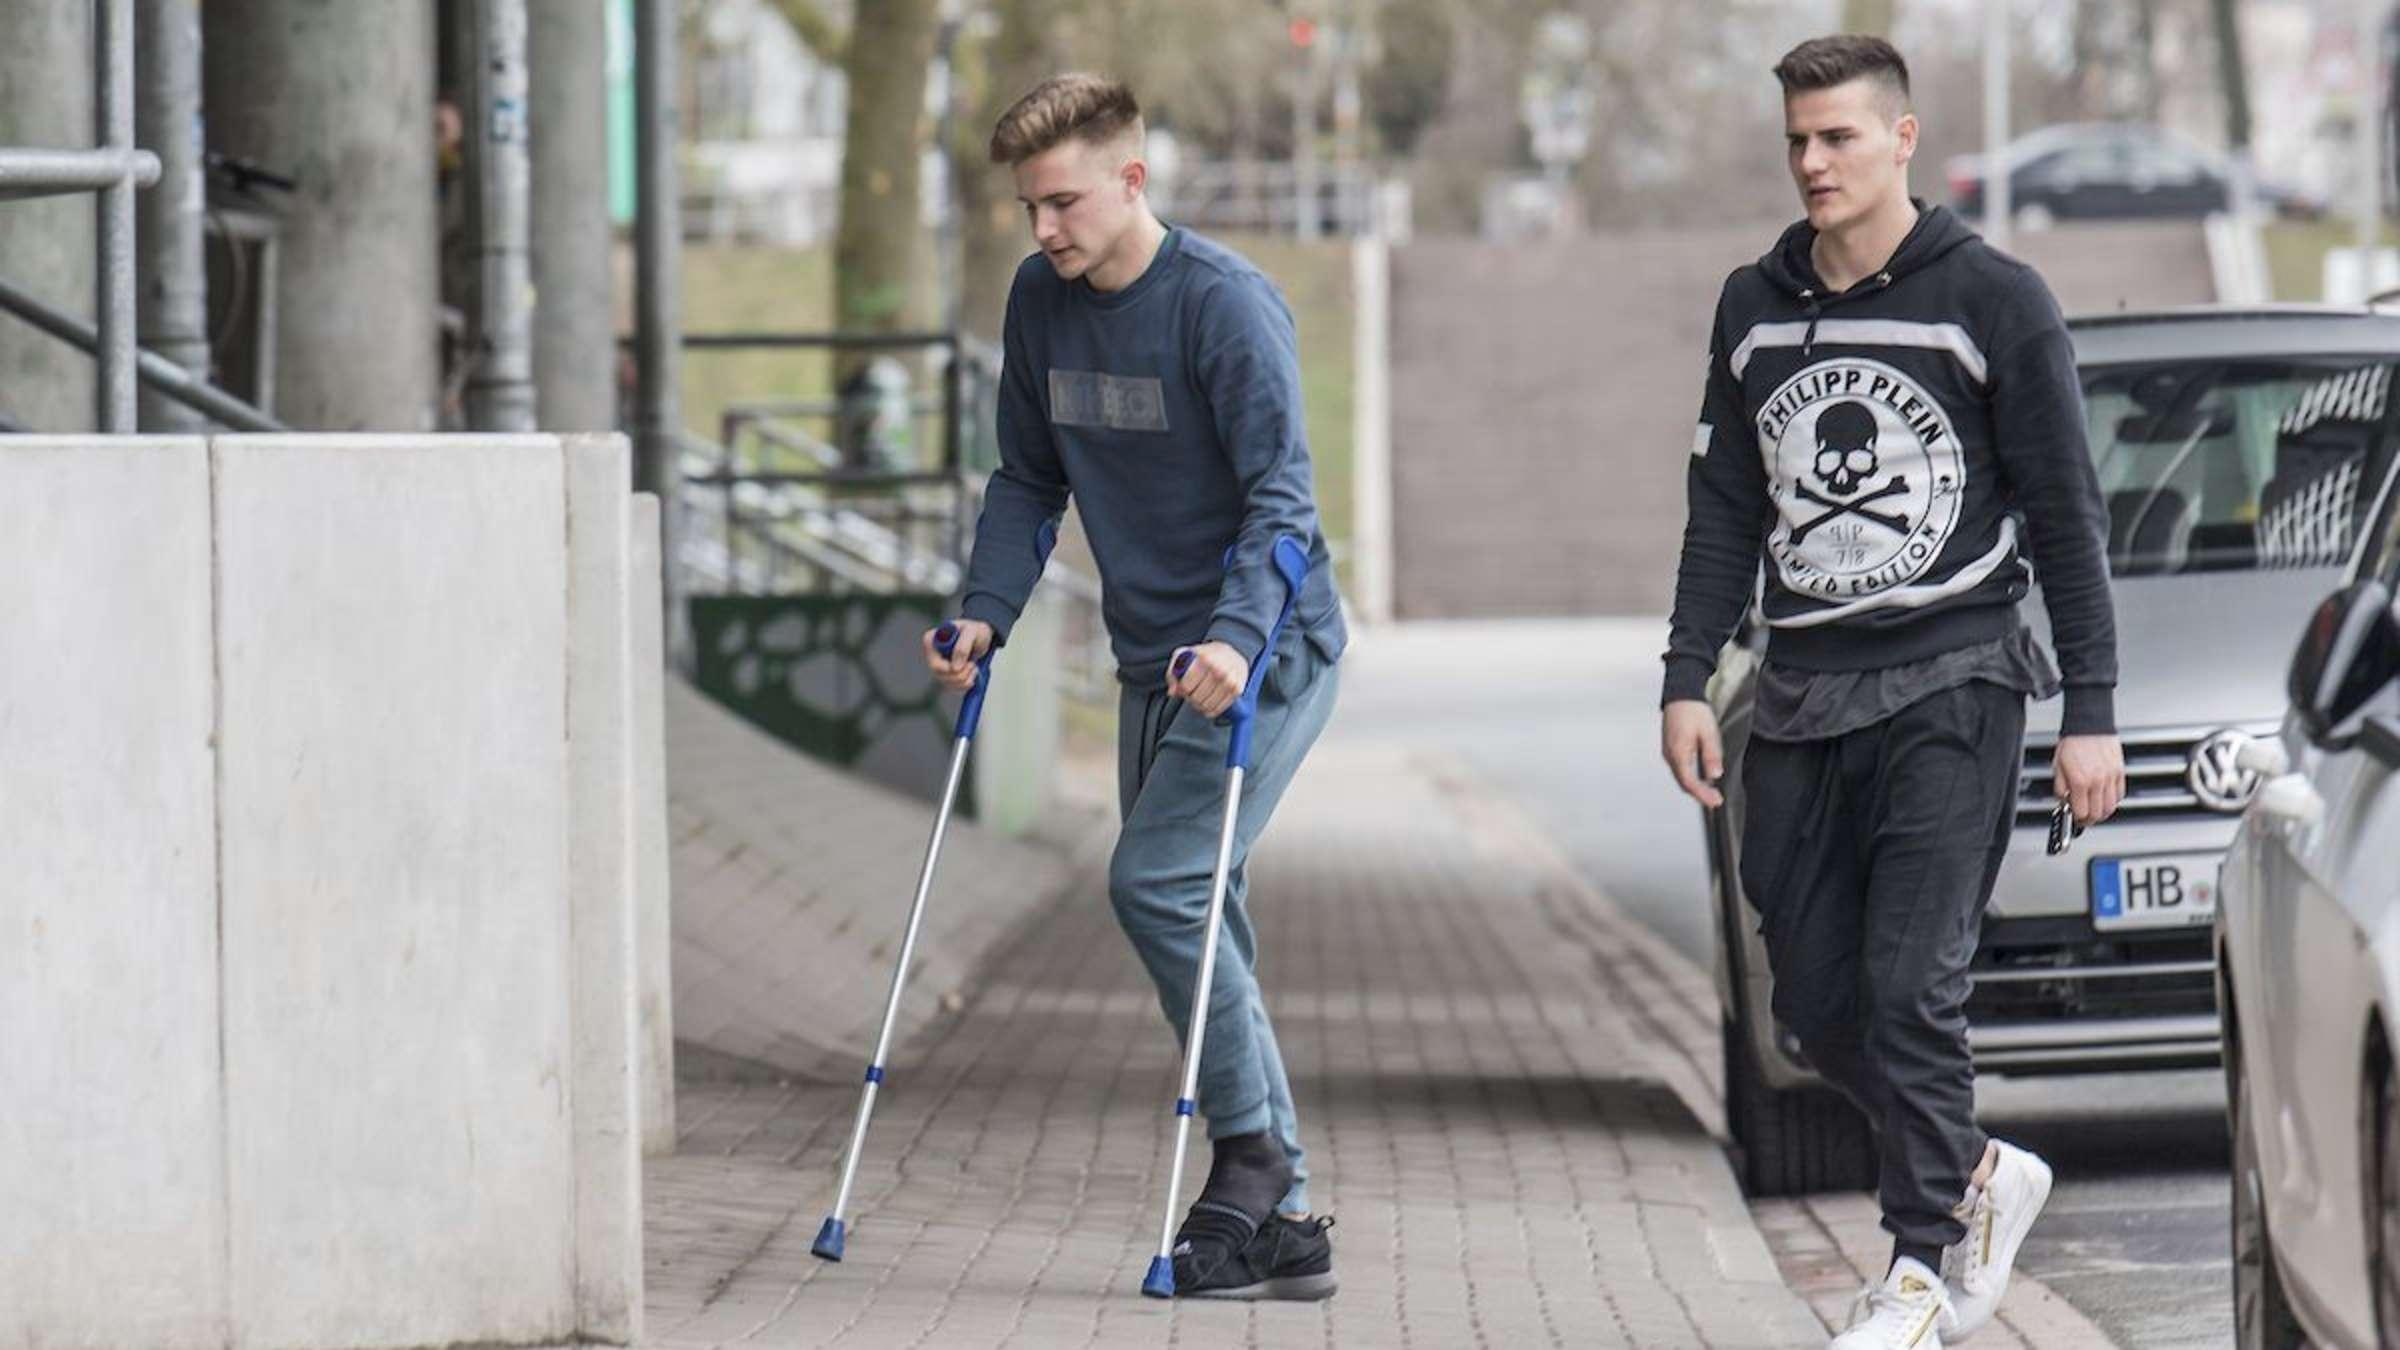crutches: (788, 40, 1385, 1315)
